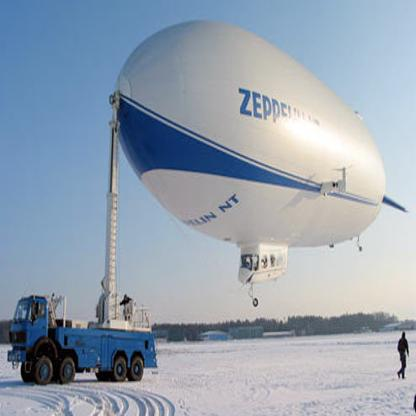Airship: (116, 19, 409, 307)
